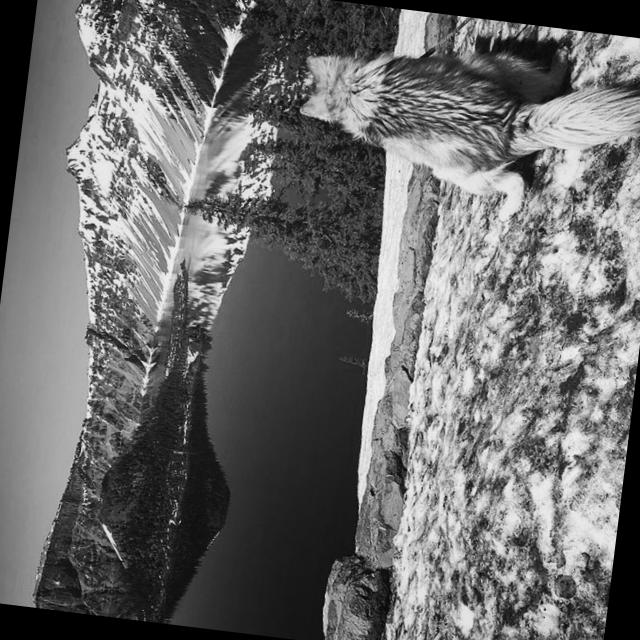squatting: (274, 2, 640, 246)
